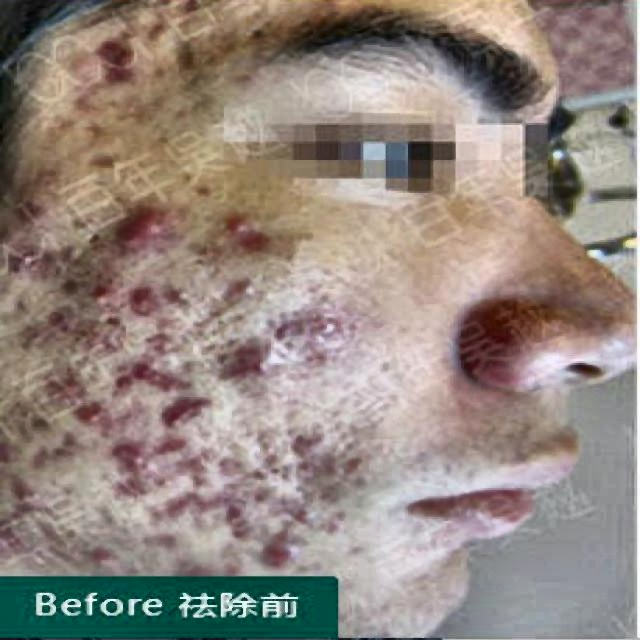papule: (126, 206, 180, 251), (233, 342, 285, 386), (258, 528, 300, 565), (190, 445, 235, 476), (74, 397, 119, 428), (118, 438, 164, 464), (300, 314, 340, 343), (120, 288, 164, 314), (173, 40, 210, 70), (89, 142, 119, 178), (102, 62, 140, 90), (304, 464, 336, 496), (64, 51, 98, 81), (287, 432, 324, 458), (84, 272, 114, 304), (89, 323, 123, 351), (42, 438, 73, 466), (164, 398, 190, 431), (54, 306, 84, 334), (136, 13, 163, 44), (243, 232, 277, 256), (148, 432, 185, 453), (215, 214, 249, 235), (94, 35, 125, 58), (24, 249, 54, 272), (134, 362, 169, 381), (168, 549, 200, 569), (231, 68, 261, 88), (256, 482, 276, 510), (159, 493, 179, 519), (218, 507, 239, 531), (186, 487, 205, 512), (118, 476, 138, 498), (215, 476, 231, 497), (146, 527, 163, 546)
